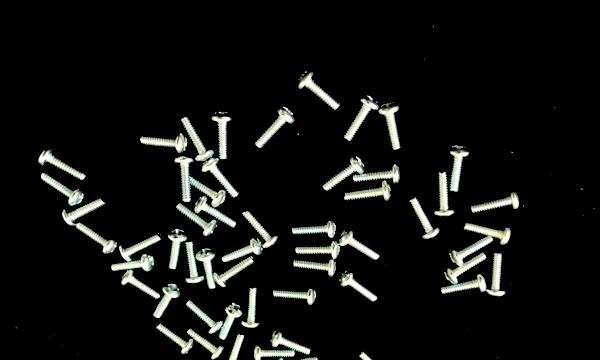shortscrew: (297, 69, 341, 111), (254, 105, 295, 149), (345, 94, 380, 142), (322, 155, 366, 192), (180, 115, 214, 162), (202, 156, 239, 199), (38, 148, 86, 180), (241, 208, 278, 249), (40, 172, 85, 205), (445, 252, 488, 286), (450, 234, 494, 267), (177, 202, 218, 237), (76, 221, 118, 255), (409, 196, 441, 240), (339, 228, 381, 261), (194, 196, 237, 228), (185, 299, 223, 335), (62, 198, 107, 227), (119, 232, 164, 261), (214, 256, 254, 288), (378, 100, 403, 151), (472, 187, 521, 213), (121, 269, 162, 300), (339, 270, 378, 302), (157, 322, 194, 355), (187, 328, 225, 360), (269, 329, 312, 356), (222, 237, 263, 265), (463, 223, 512, 246), (191, 177, 227, 207), (353, 163, 402, 185), (212, 111, 234, 160), (174, 153, 196, 202), (449, 144, 470, 193), (434, 169, 455, 218), (155, 281, 181, 320), (344, 180, 392, 201), (140, 133, 189, 153), (485, 253, 507, 297), (273, 284, 317, 306), (291, 218, 337, 239), (195, 248, 218, 290), (442, 274, 487, 295), (295, 240, 340, 261), (220, 303, 245, 340), (184, 241, 204, 286), (292, 259, 339, 278), (112, 253, 155, 273), (242, 287, 262, 329), (168, 229, 187, 270), (253, 344, 295, 360), (223, 332, 245, 360), (358, 349, 395, 360), (277, 354, 318, 360)
